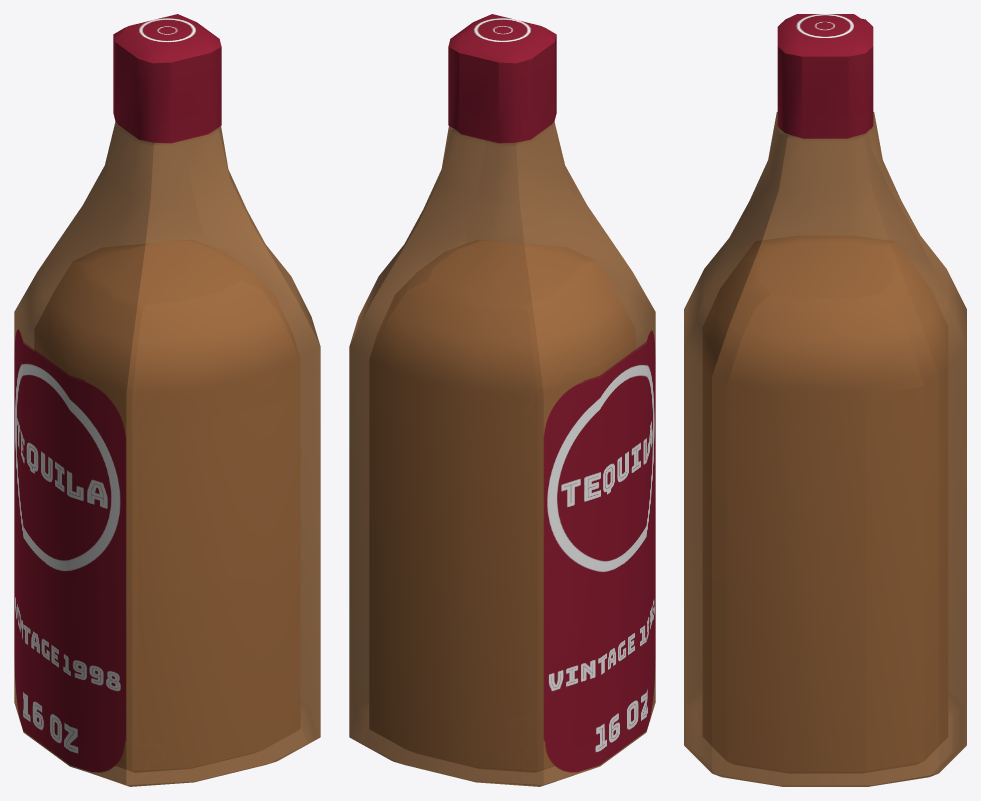
The model's file is Tequila.fbx.
3 renders of one model, left to right at view 1: azimuth 30°, elevation 25°; view 2: azimuth 150°, elevation 25°; view 3: azimuth 270°, elevation 25°, orthographic.
Visible parts, largest first — view 1: TequilaBottle; view 2: TequilaBottle; view 3: TequilaBottle.
Part boxes in pixels (x1,y1,x2,y2): TequilaBottle: [14, 14, 320, 786]; TequilaBottle: [349, 14, 655, 786]; TequilaBottle: [684, 14, 966, 786].
Size of the model in its own units: 1.07 by 2.96 by 1.07.
